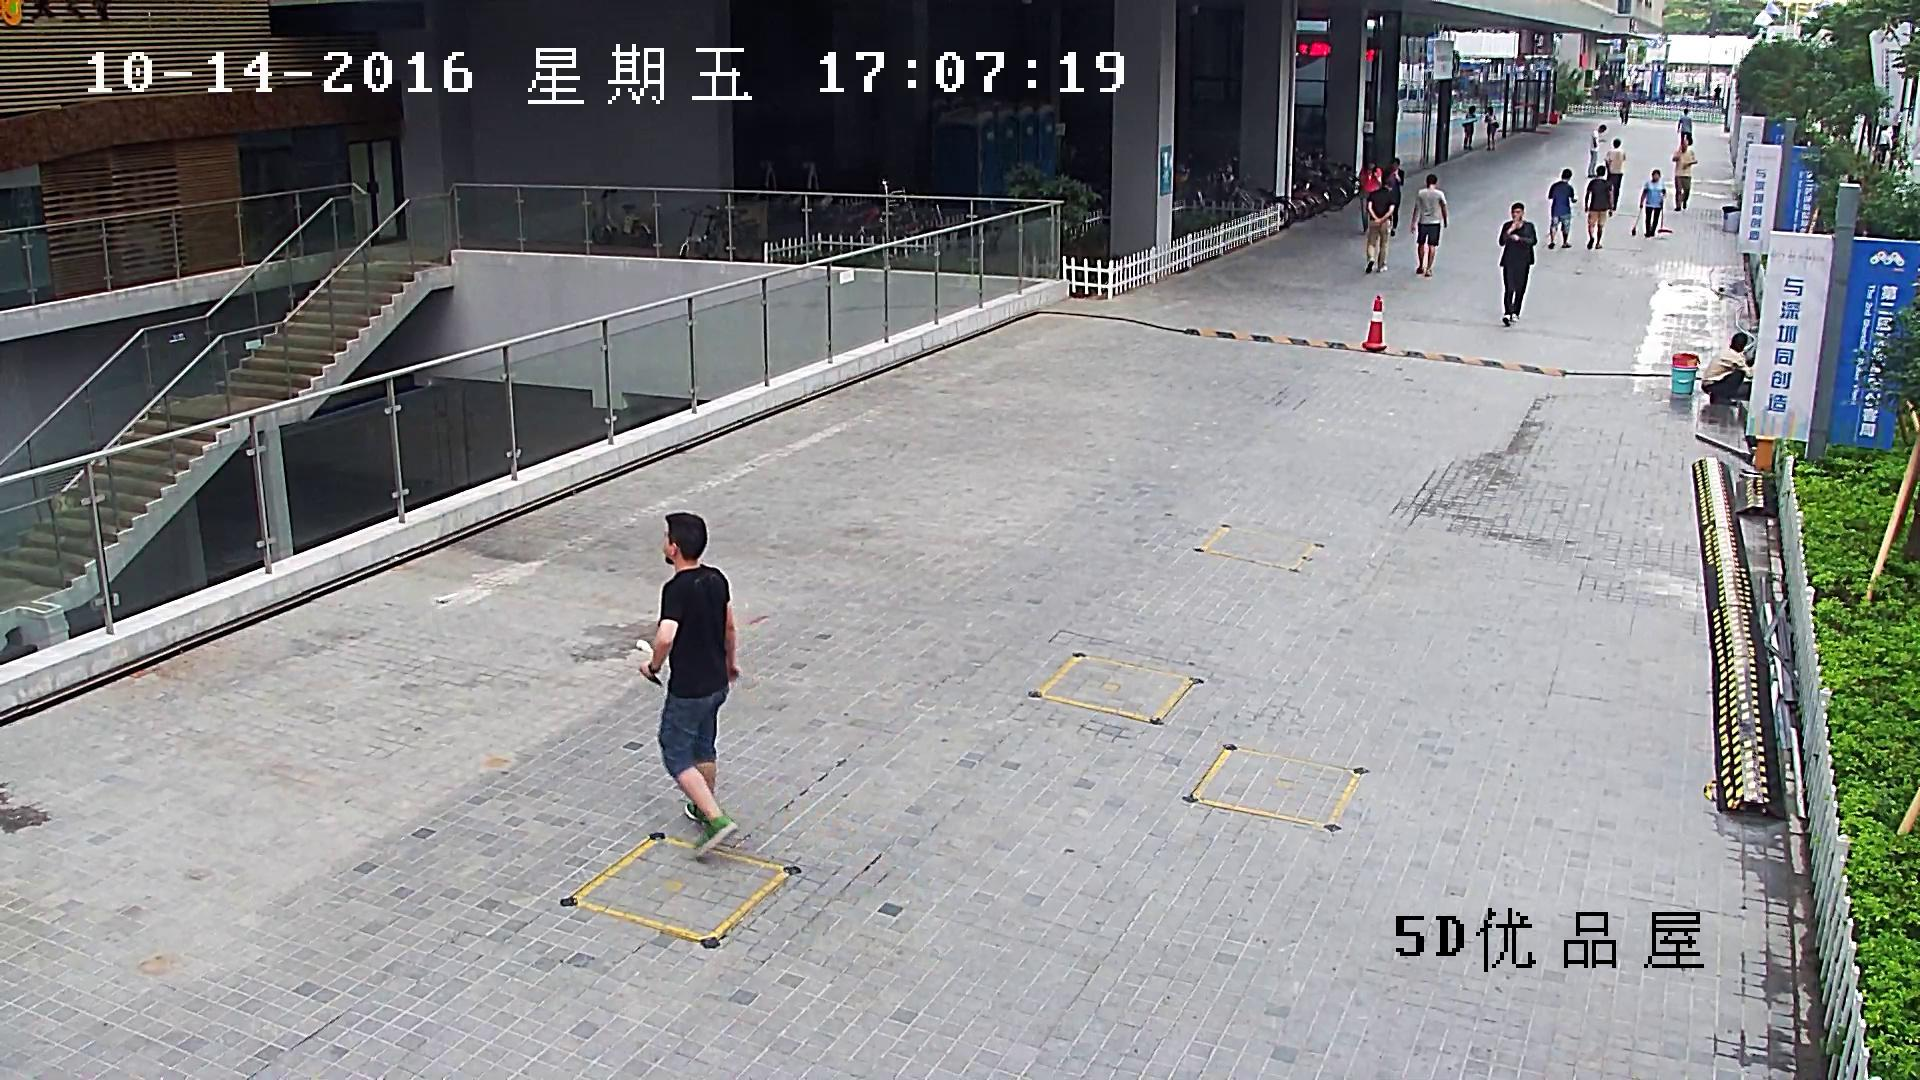person: (638, 510, 742, 862), (1498, 200, 1537, 328), (1409, 171, 1448, 277), (1699, 332, 1753, 407), (1364, 177, 1396, 275), (1630, 169, 1672, 238), (1583, 165, 1613, 249), (1547, 168, 1576, 249), (1357, 158, 1382, 236), (1671, 142, 1698, 212), (1638, 169, 1666, 237), (1603, 138, 1626, 218), (1382, 157, 1404, 236), (1586, 124, 1607, 178), (1460, 104, 1477, 150), (1484, 106, 1499, 151), (1675, 108, 1693, 145), (1877, 125, 1892, 164), (1619, 93, 1631, 124), (1713, 83, 1722, 107)
